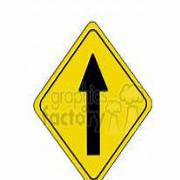forward: (34, 21, 153, 180)
